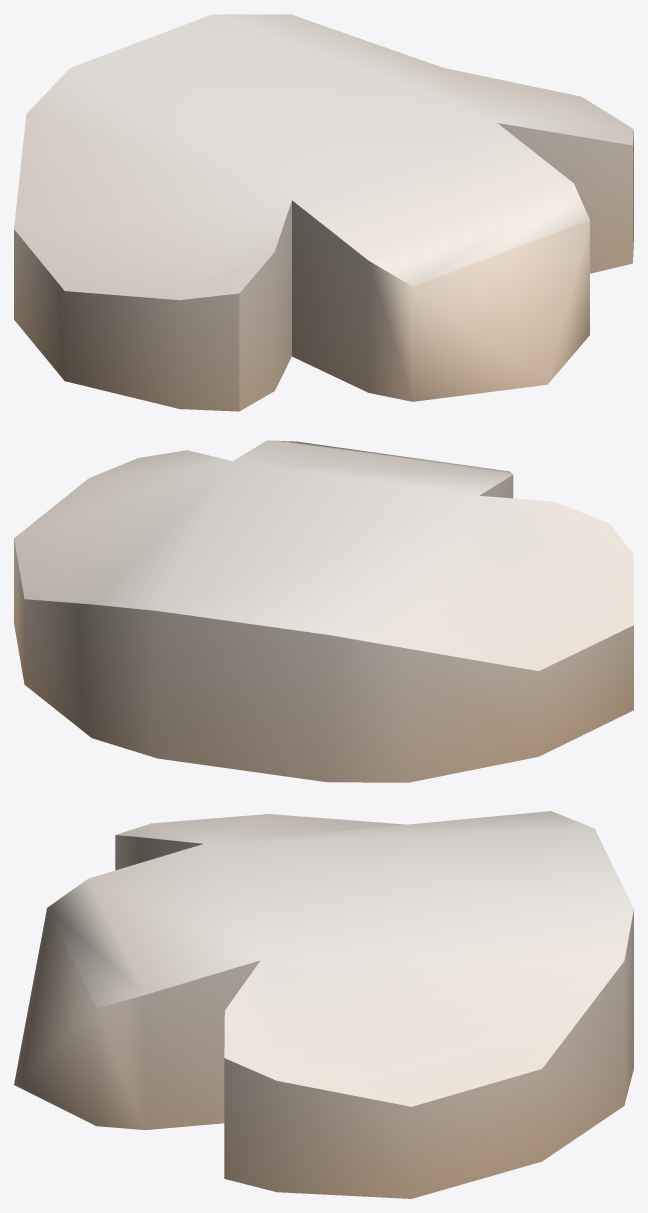
Rendered from food_ingredient_mushroom_gib_A.gltf.
The picture shows the model from 3 angles, top to bottom: view 1: azimuth 30°, elevation 25°; view 2: azimuth 150°, elevation 25°; view 3: azimuth 270°, elevation 25°; orthographic projection. The views are drawn at different scales.
Visible parts, largest first — view 1: food_ingredient_mushroom_pieces.002; view 2: food_ingredient_mushroom_pieces.002; view 3: food_ingredient_mushroom_pieces.002.
Boxes of the visible parts, x1=… form: food_ingredient_mushroom_pieces.002: x1=14, y1=14, x2=633, y2=411; food_ingredient_mushroom_pieces.002: x1=14, y1=440, x2=633, y2=782; food_ingredient_mushroom_pieces.002: x1=14, y1=811, x2=633, y2=1198.
Size of the model in its own units: 0.2312 by 0.0588 by 0.2068.
Materials: 1 (1 with a texture image).
